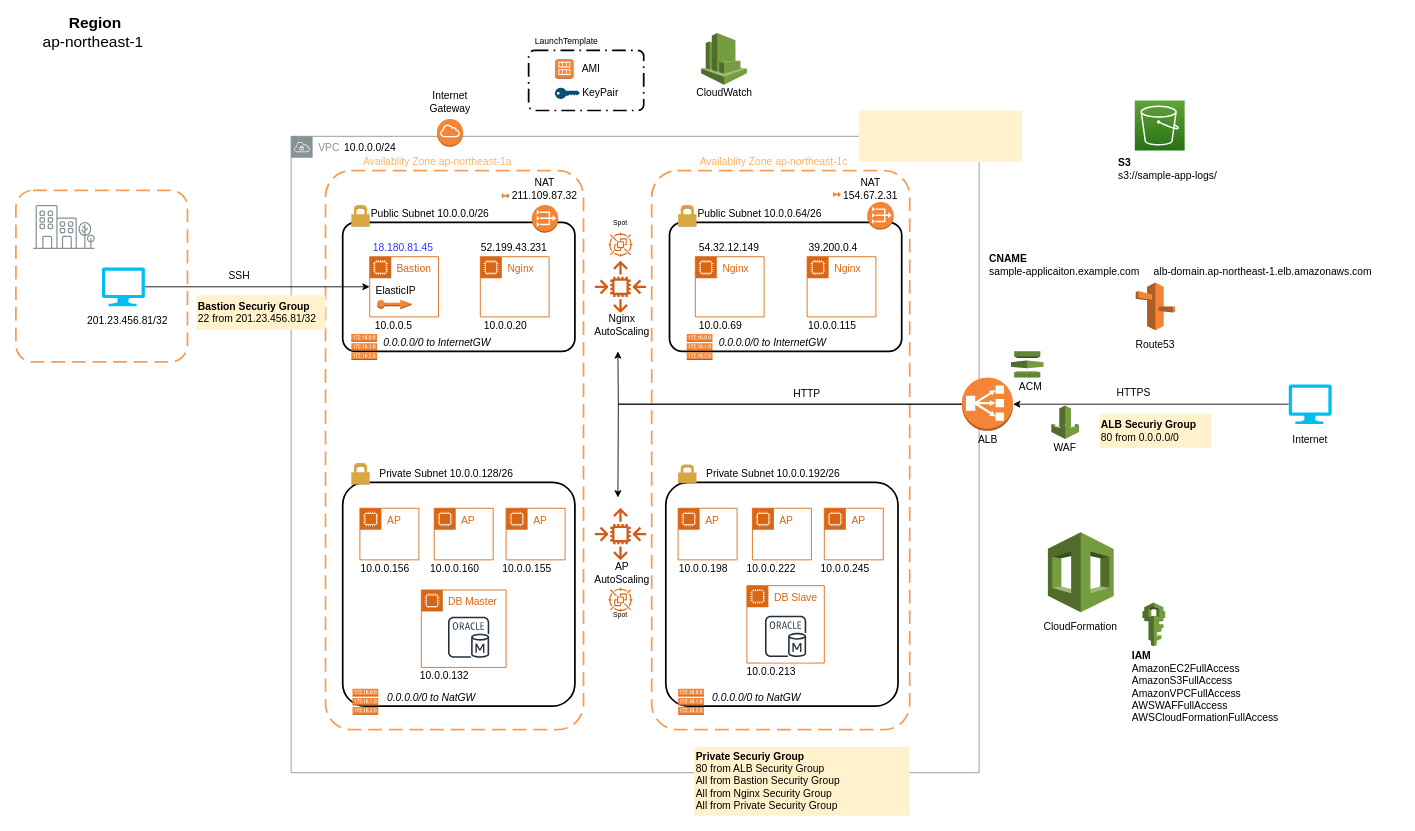
Image size: 1415x831. Some labels were removed from this diagram. Each missing label, with the centre of its shape:
Nginx Securiy Group 80 from ALB Security Group All from Bastion Security Group: point 940,136
Office: point 63,227
